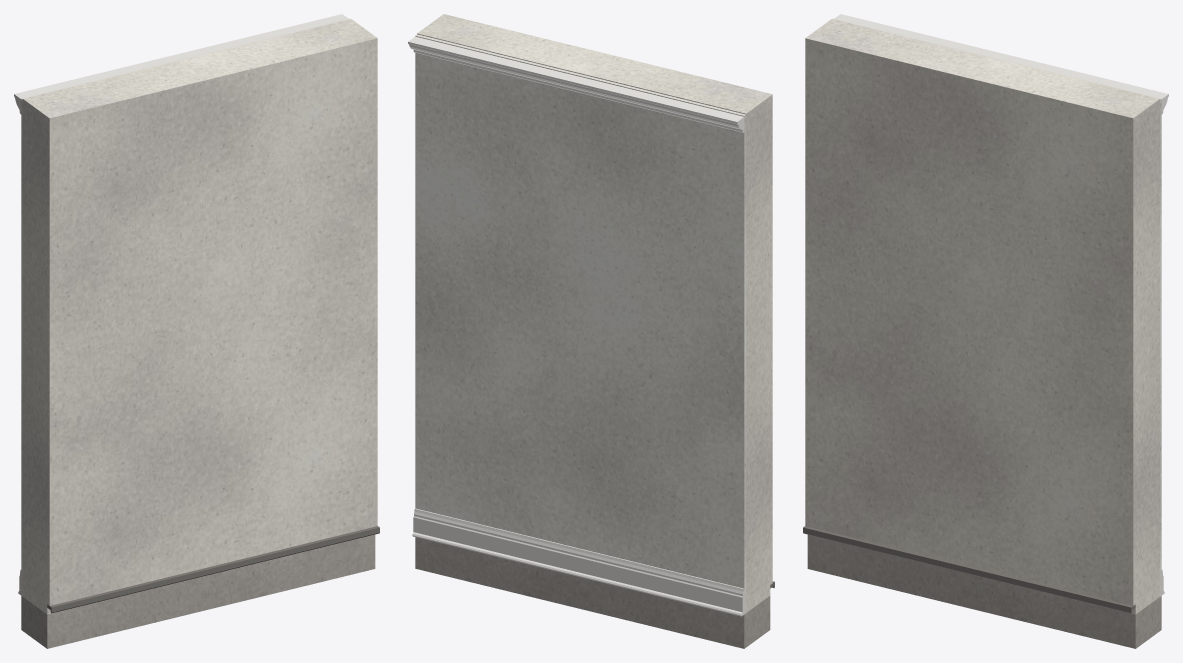
File: wall_render.glb
3 views of the same model, side by side, from view 1: azimuth 30°, elevation 25°; view 2: azimuth 150°, elevation 25°; view 3: azimuth 330°, elevation 25° (orthographic).
Visible parts, largest first — view 1: wall_render_render, wall_render_concrete, wall_render_metal, molduras, wall_render_plaster; view 2: wall_render_plaster, wall_render_render, molduras, wall_render_concrete; view 3: wall_render_render, wall_render_concrete, wall_render_metal, molduras, wall_render_plaster.
Part boxes in pixels (bbox=[...]): wall_render_render: bbox=[23, 19, 377, 614]; wall_render_concrete: bbox=[21, 534, 375, 648]; wall_render_metal: bbox=[47, 526, 379, 613]; molduras: bbox=[14, 14, 347, 595]; wall_render_plaster: bbox=[21, 18, 349, 596]; wall_render_plaster: bbox=[415, 34, 746, 614]; wall_render_render: bbox=[417, 14, 772, 612]; molduras: bbox=[408, 36, 744, 616]; wall_render_concrete: bbox=[415, 537, 770, 648]; wall_render_render: bbox=[805, 19, 1159, 614]; wall_render_concrete: bbox=[807, 534, 1161, 648]; wall_render_metal: bbox=[803, 526, 1135, 613]; molduras: bbox=[835, 14, 1168, 595]; wall_render_plaster: bbox=[833, 18, 1161, 596].
Size of the model in its own units: 2 by 3.1 by 0.397.
Materials: 5 (3 with a texture image).
